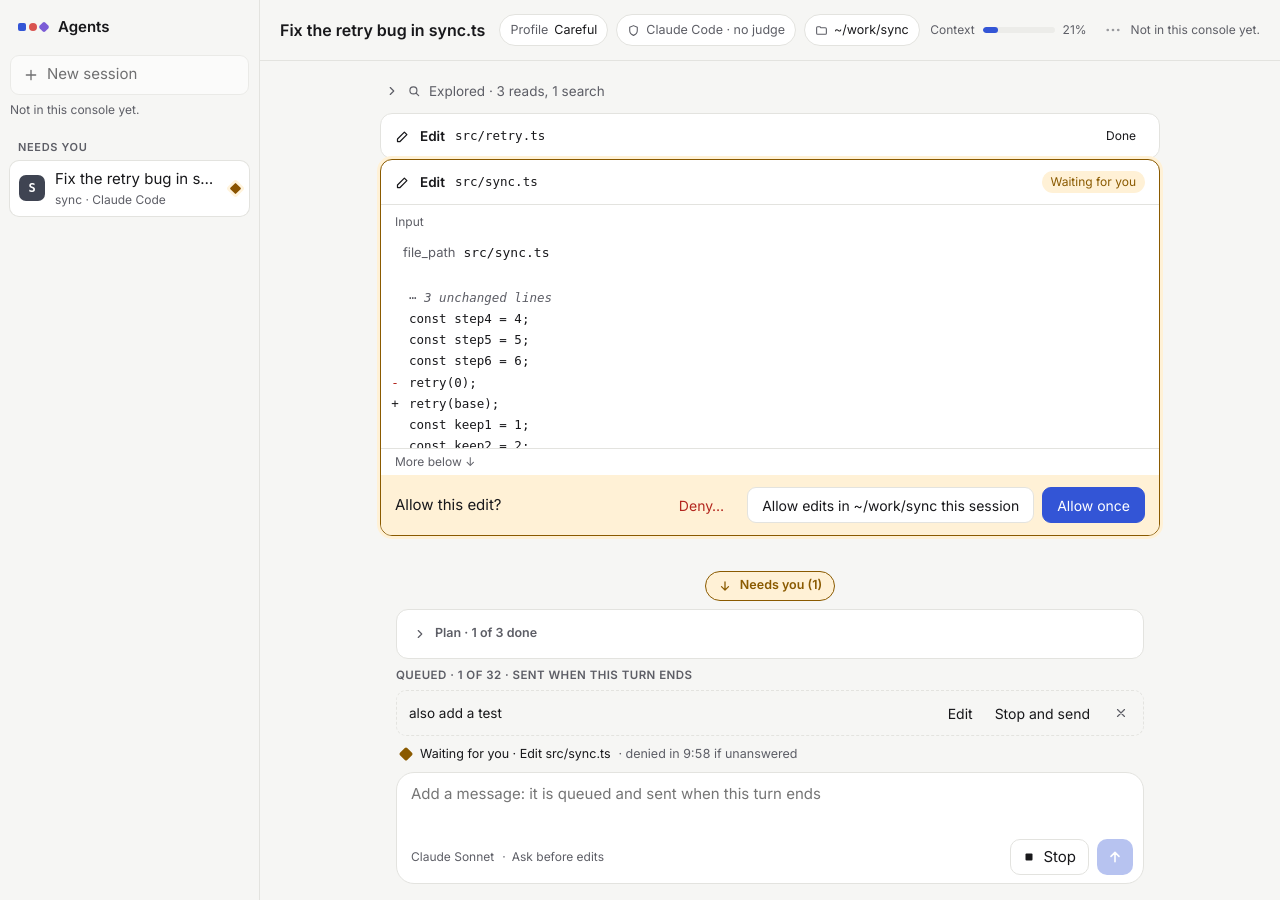
it: app › ac7_app_passes_model_mode_and_stopping_to_the_dock
(page scrolled)
Check: the button "Needs you (1)" is shown, box [705, 571, 835, 601]
Click the button "Stop".
click(1050, 857)  # box [1010, 839, 1089, 875]
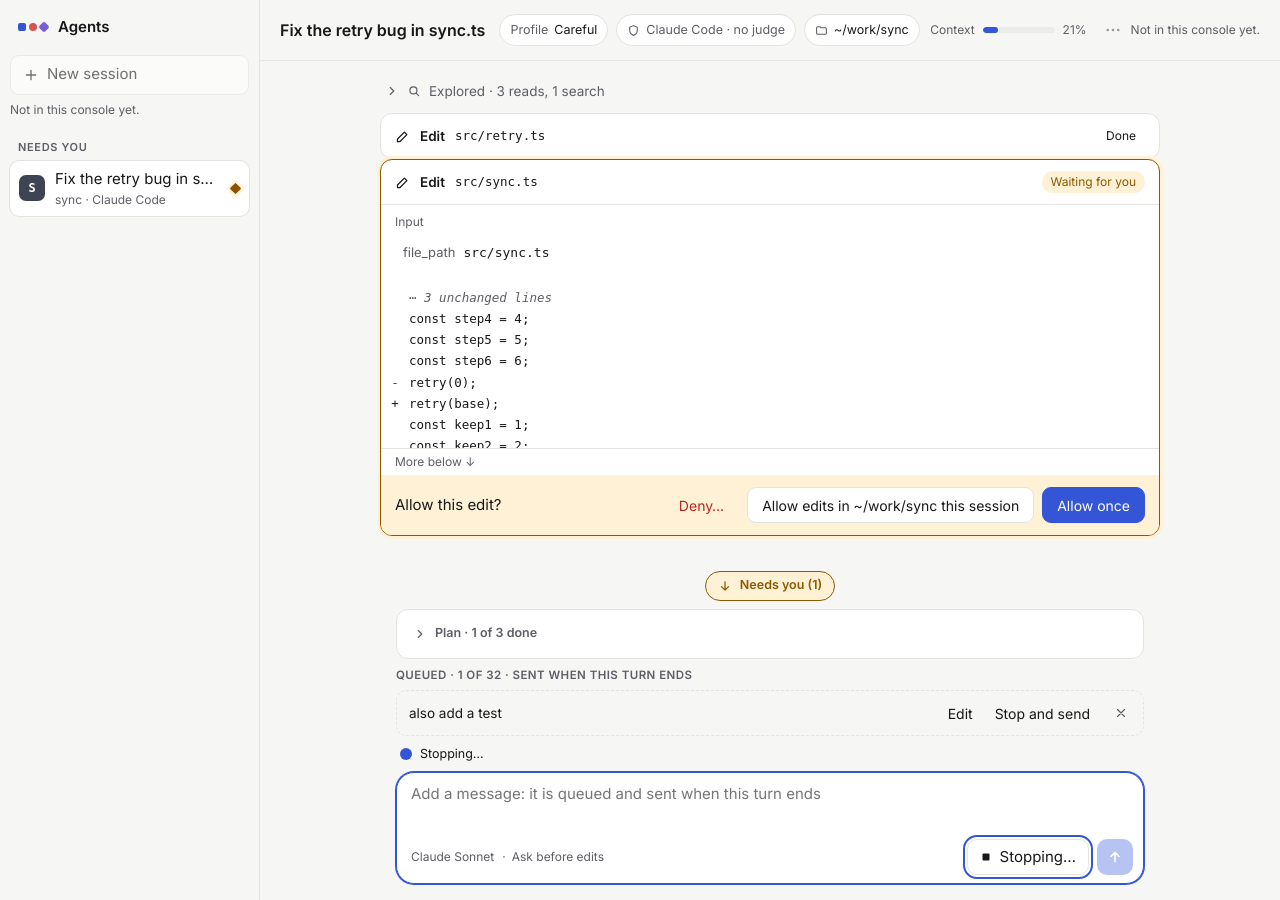
Check: the button "Stopping…" is shown, box [967, 839, 1089, 875]
